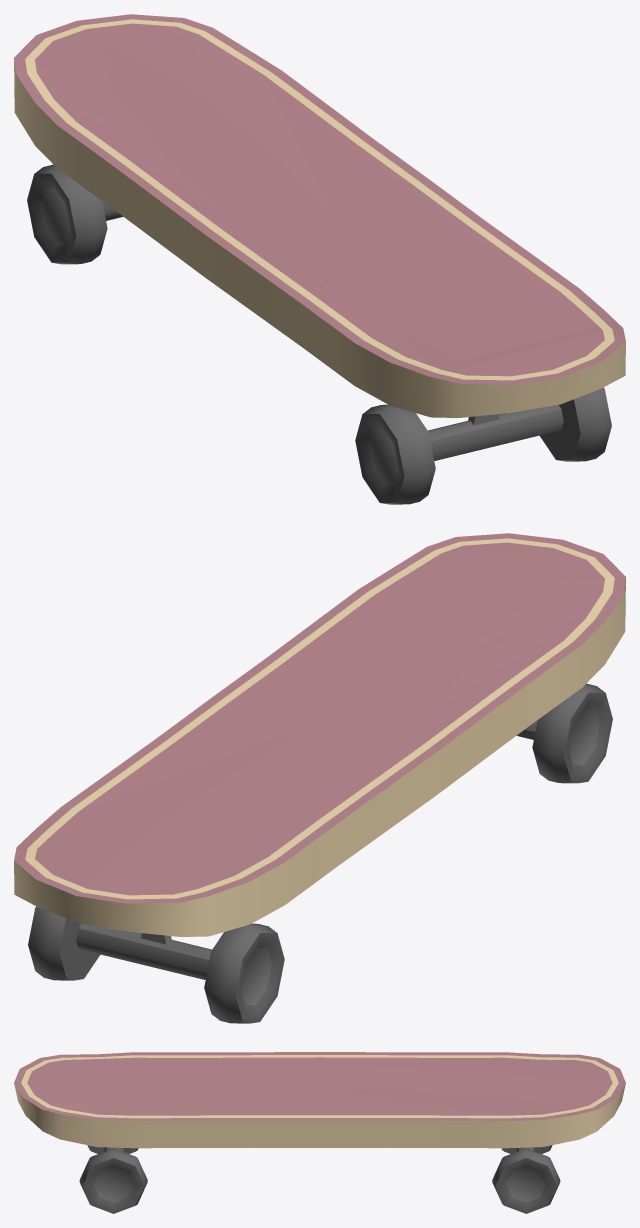
Rendered from Board_3.fbx.
The picture shows the model from 3 angles, top to bottom: view 1: azimuth 30°, elevation 25°; view 2: azimuth 150°, elevation 25°; view 3: azimuth 270°, elevation 25°; orthographic projection. The views are drawn at different scales.
Visible parts, largest first — view 1: Board_3, Board_3 RF Tire, Board_3 RB Tire, Board_3 LF Tire; view 2: Board_3, Board_3 RB Tire, Board_3 RF Tire, Board_3 LB Tire; view 3: Board_3, Board_3 LF Tire, Board_3 LB Tire.
Boxes of the visible parts, box(x1,y1,x2,y2) form: Board_3: box(14, 14, 625, 460); Board_3 RF Tire: box(355, 404, 435, 504); Board_3 RB Tire: box(27, 164, 107, 264); Board_3 LF Tire: box(539, 387, 611, 461); Board_3: box(14, 533, 625, 979); Board_3 RB Tire: box(204, 923, 284, 1023); Board_3 RF Tire: box(532, 683, 612, 783); Board_3 LB Tire: box(28, 906, 100, 980); Board_3: box(14, 1052, 625, 1151); Board_3 LF Tire: box(79, 1148, 147, 1213); Board_3 LB Tire: box(492, 1148, 560, 1213).
Size of the model in its own units: 0.2609 by 0.1798 by 0.9748.
